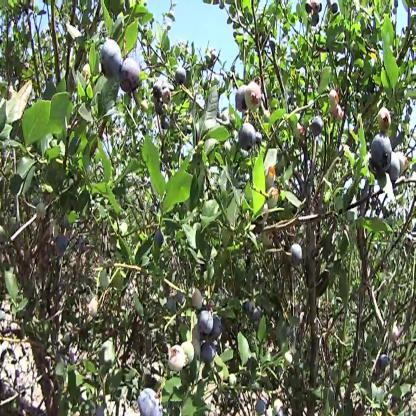intermediate: (328, 93, 344, 127), (246, 82, 263, 112), (169, 348, 185, 373), (380, 108, 392, 137), (163, 89, 171, 106)
mature: (102, 41, 141, 93), (202, 313, 224, 362), (373, 136, 393, 171), (139, 391, 161, 416), (240, 125, 257, 151), (306, 1, 323, 27), (310, 116, 325, 139), (291, 245, 304, 268), (155, 82, 164, 115), (56, 235, 68, 256), (237, 84, 245, 112), (177, 68, 187, 85), (255, 400, 265, 414), (162, 118, 172, 130)
young: (183, 339, 195, 364)
